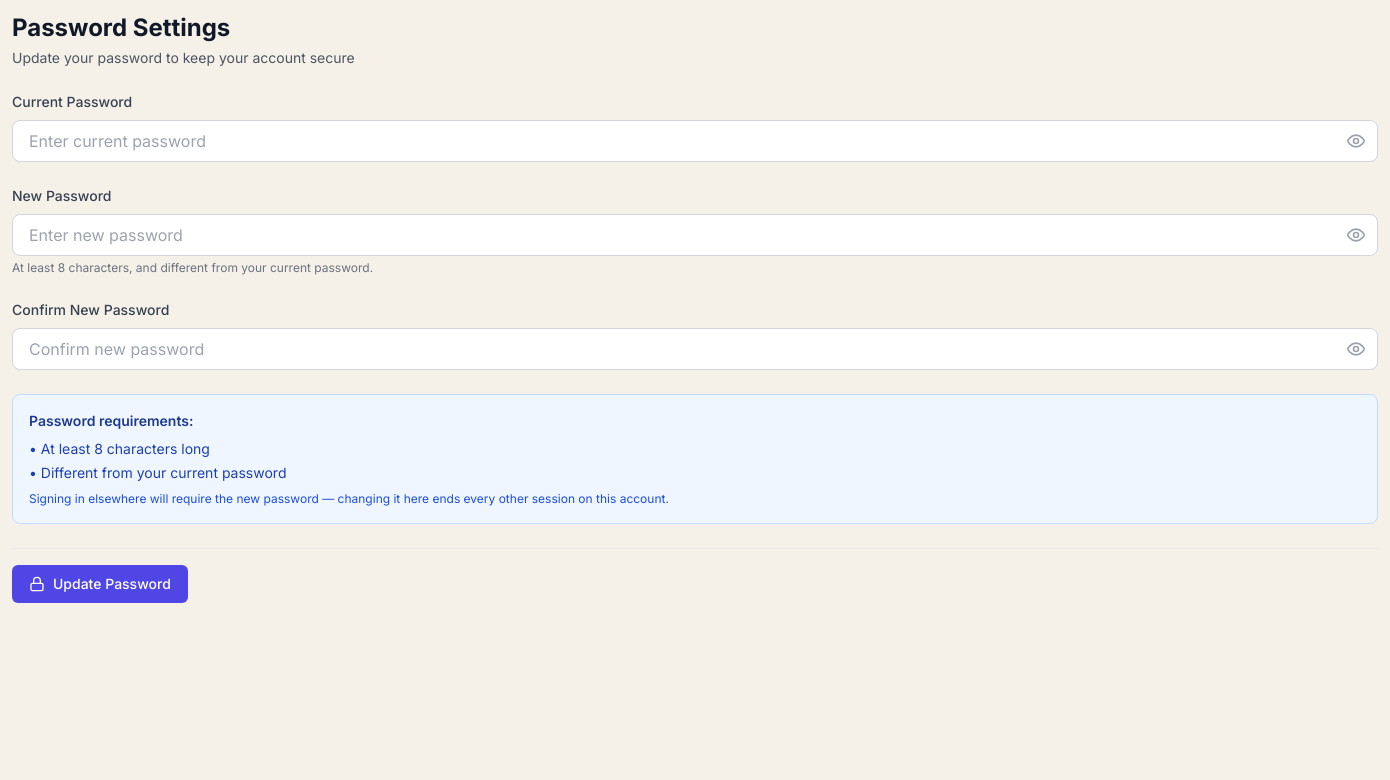
PasswordSettings — change your own password › a wrong current password shows the server's reason and does NOT touch the token
In the password field labelled "Current Password": coordinates (695, 141) [12, 120, 1378, 162], type "wrong-guess"
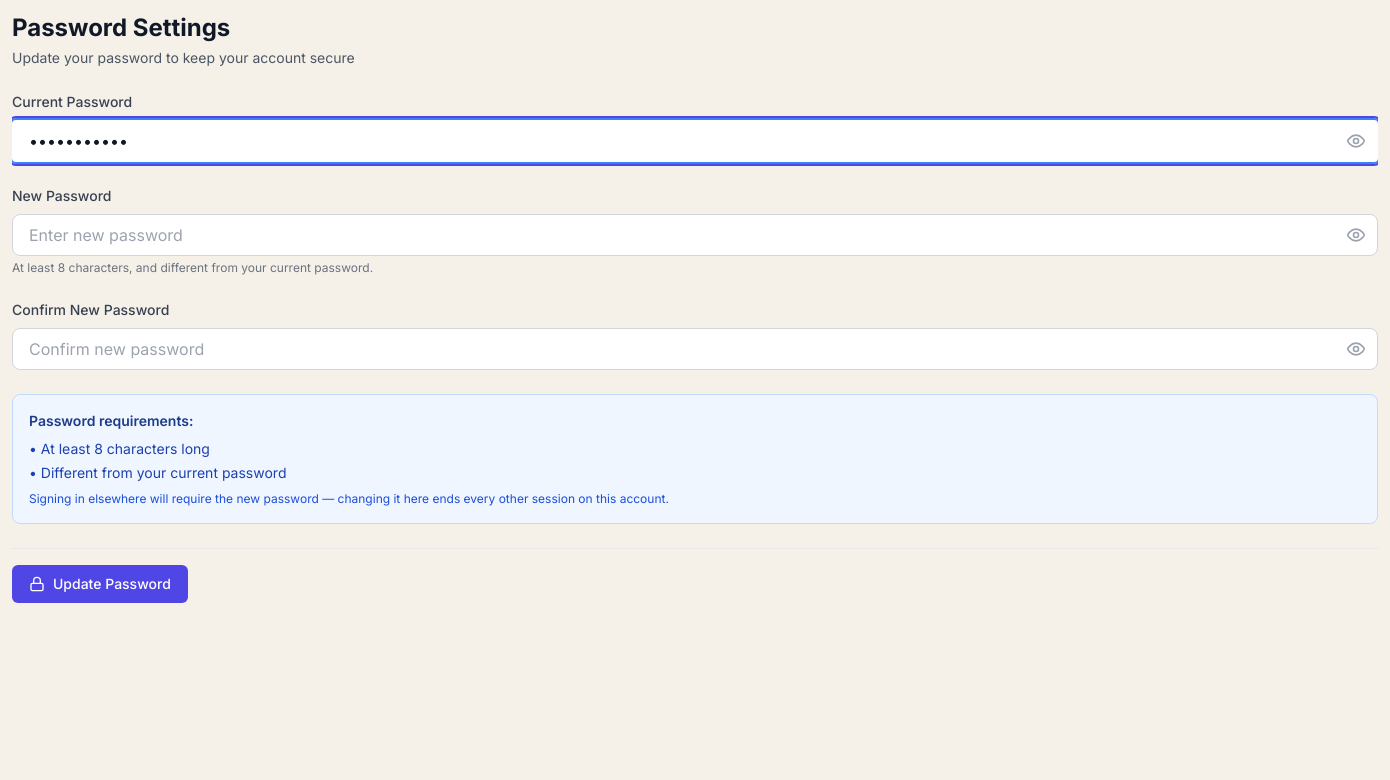
In the password field labelled "New Password": coordinates (695, 235) [12, 214, 1378, 256], type "new-secret-2"
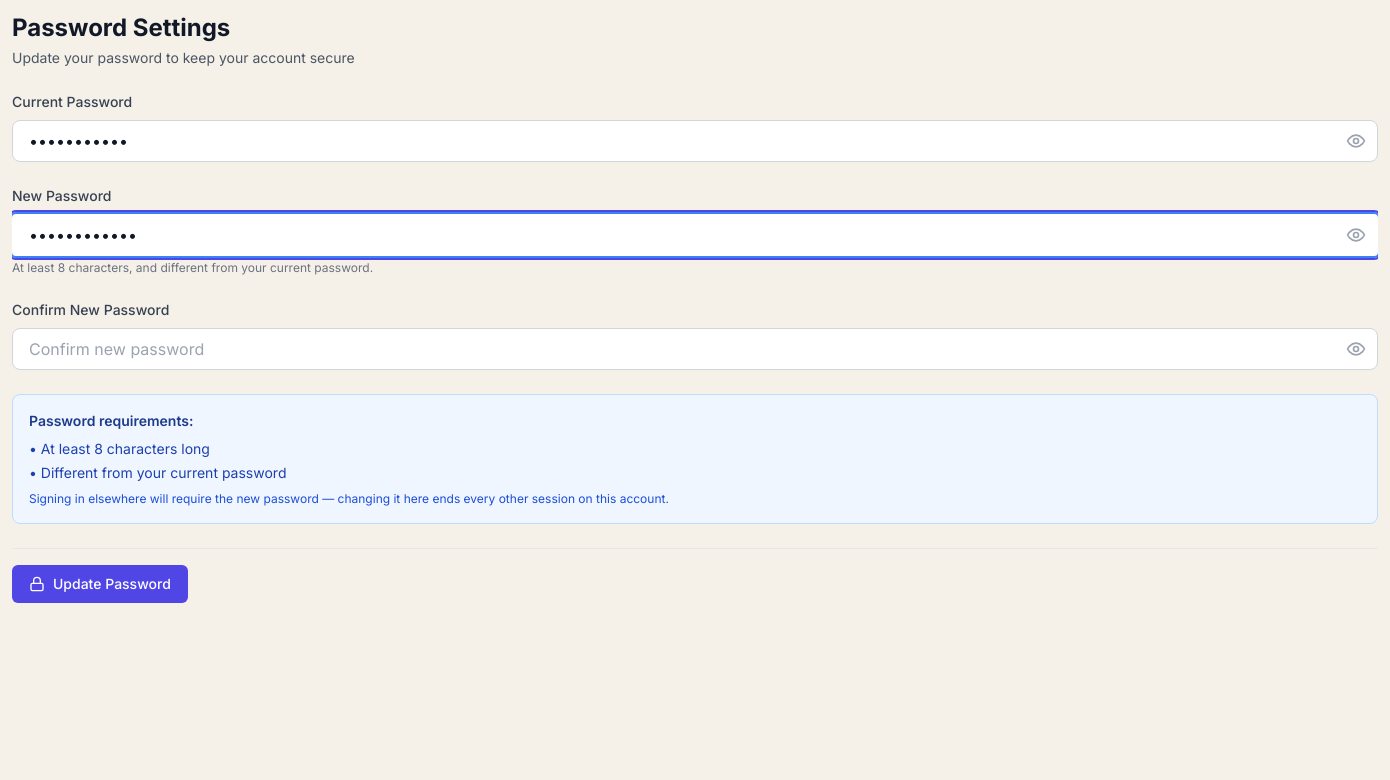
In the password field labelled "Confirm New Password": coordinates (695, 349) [12, 328, 1378, 370], type "new-secret-2"
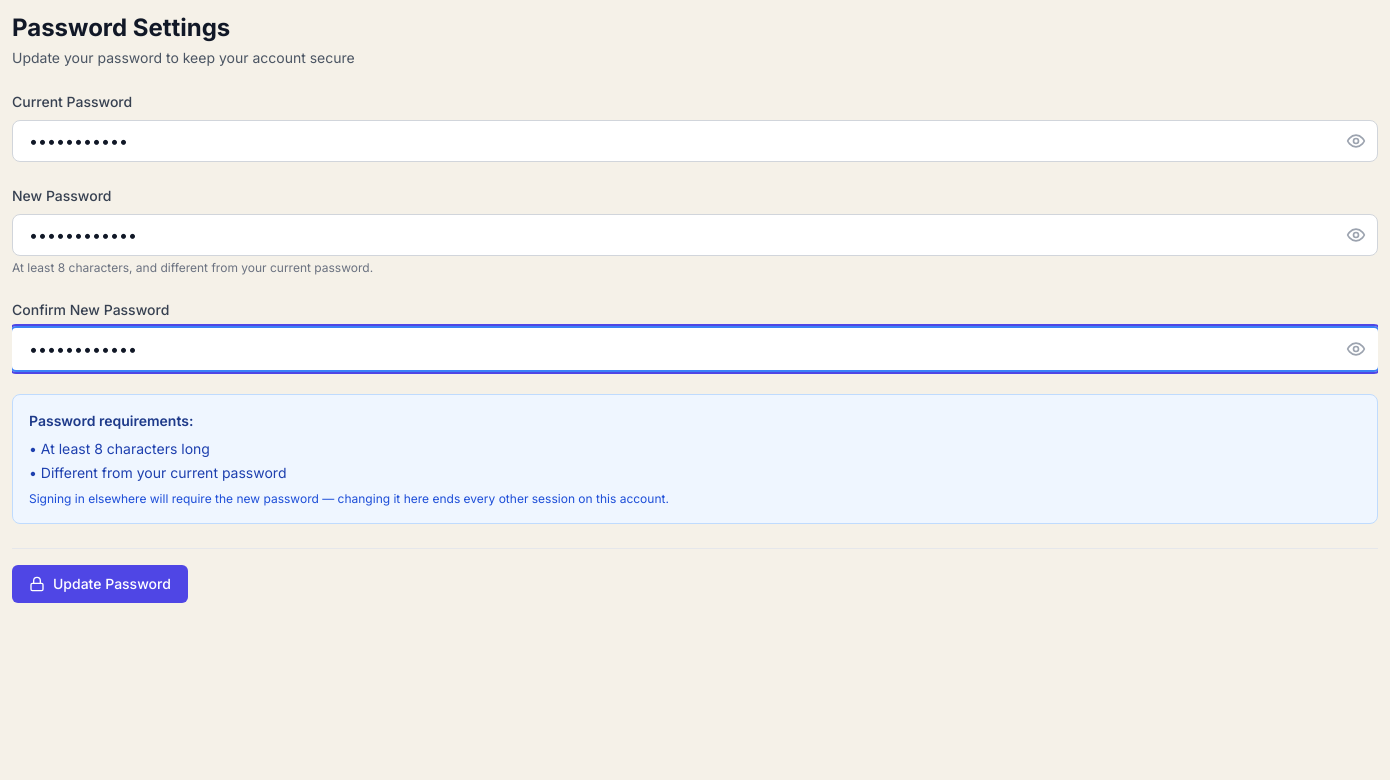
Click the button "Update Password": coordinates (100, 584) [12, 565, 188, 603]
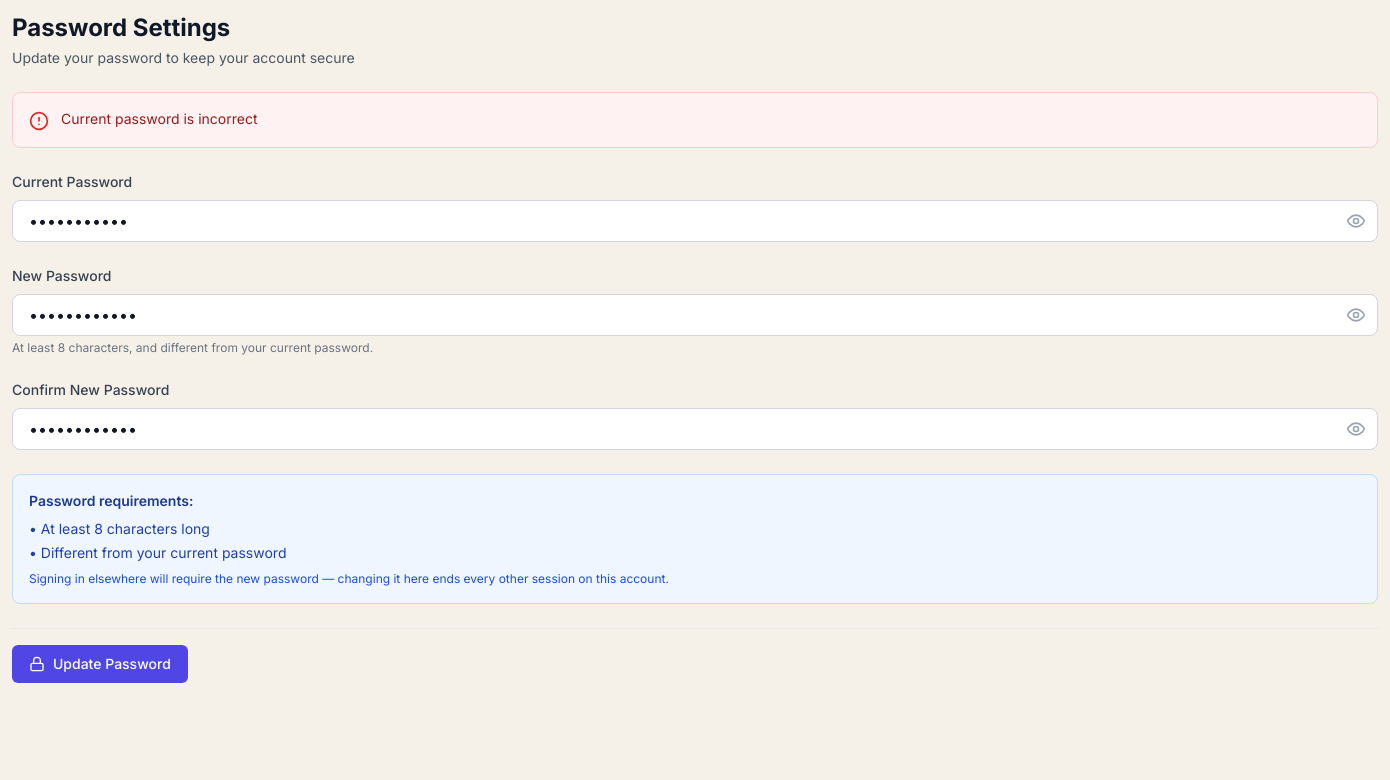
Expected: the message reads "Current password is incorrect", [61, 110, 258, 127]
